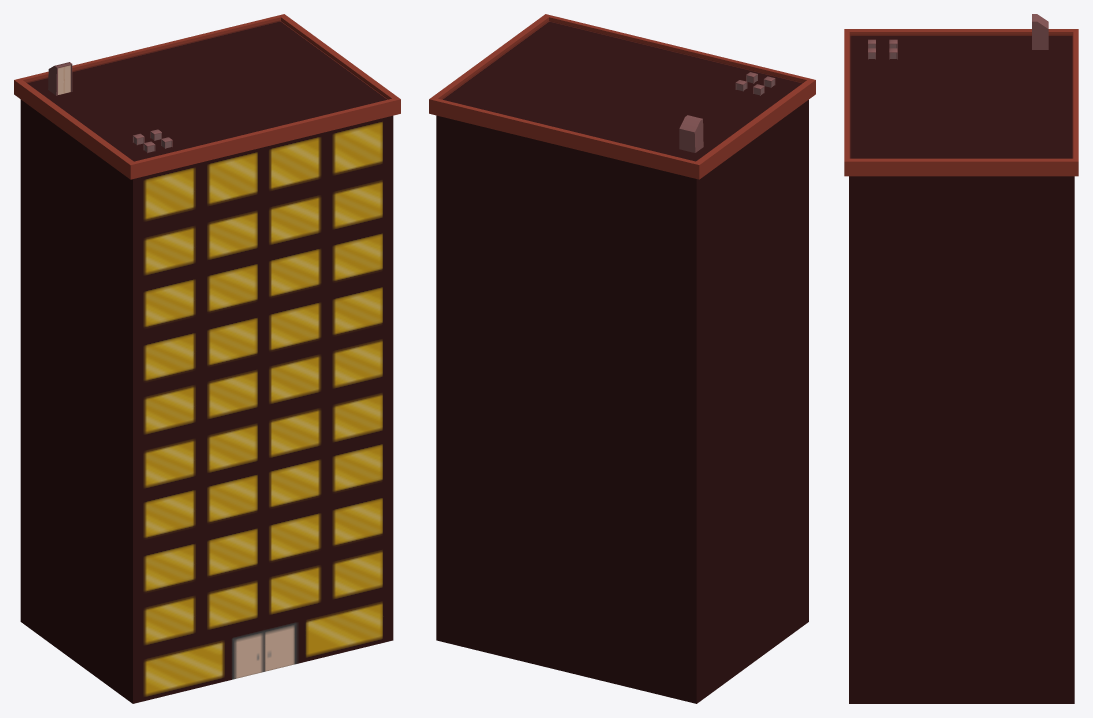
File: Level 3 Bldg Complete (3).fbx
The picture shows the model from 3 angles, left to right: view 1: azimuth 30°, elevation 25°; view 2: azimuth 150°, elevation 25°; view 3: azimuth 270°, elevation 25°; orthographic projection.
Parts seen in each view (by area): view 1: Bldg, Tenth_Floor, Second_Floor, First_Floor, Seventh_Floor, Fifth_Floor, lloyd_20150709_0254:Roof_Door; view 2: Bldg, lloyd_20150709_0254:Roof_Door; view 3: Bldg, lloyd_20150709_0254:Roof_Door.
Part boxes in pixels (x1,y1,x2,y2): Bldg: (14,14,400,703); Tenth_Floor: (140,117,385,226); Second_Floor: (140,544,385,649); First_Floor: (140,598,385,701); Seventh_Floor: (140,281,385,385); Fifth_Floor: (140,391,385,490); lloyd_20150709_0254:Roof_Door: (48,62,72,95); Bldg: (429,14,815,703); lloyd_20150709_0254:Roof_Door: (679,115,703,152); Bldg: (844,29,1078,703); lloyd_20150709_0254:Roof_Door: (1032,14,1048,49).
Size of the model in its own units: 77.87 by 156 by 58.11.
1 material, 1 textured.
